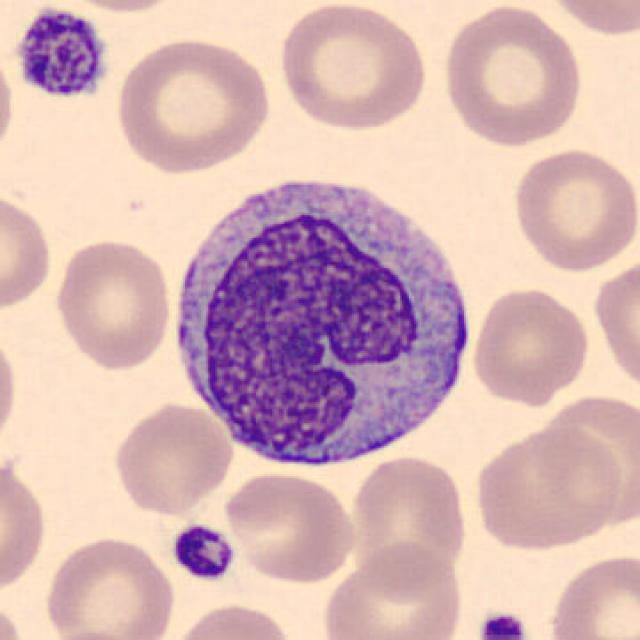Monocyte: (165, 159, 482, 485)
Platelets: (9, 2, 112, 104), (167, 520, 238, 584), (474, 608, 532, 640)
RBC: (112, 34, 276, 176), (437, 2, 585, 148), (274, 0, 432, 134), (469, 422, 626, 554), (345, 451, 471, 589), (52, 235, 176, 372), (508, 145, 636, 273), (221, 469, 359, 585), (318, 537, 469, 640), (468, 284, 592, 407), (41, 532, 178, 640), (108, 400, 234, 517), (544, 550, 640, 640), (0, 451, 50, 598), (590, 252, 638, 399), (0, 187, 55, 315), (167, 599, 299, 640), (539, 0, 638, 39), (0, 324, 21, 454), (42, 0, 196, 16), (0, 37, 18, 168), (39, 627, 145, 640), (0, 594, 27, 640)
